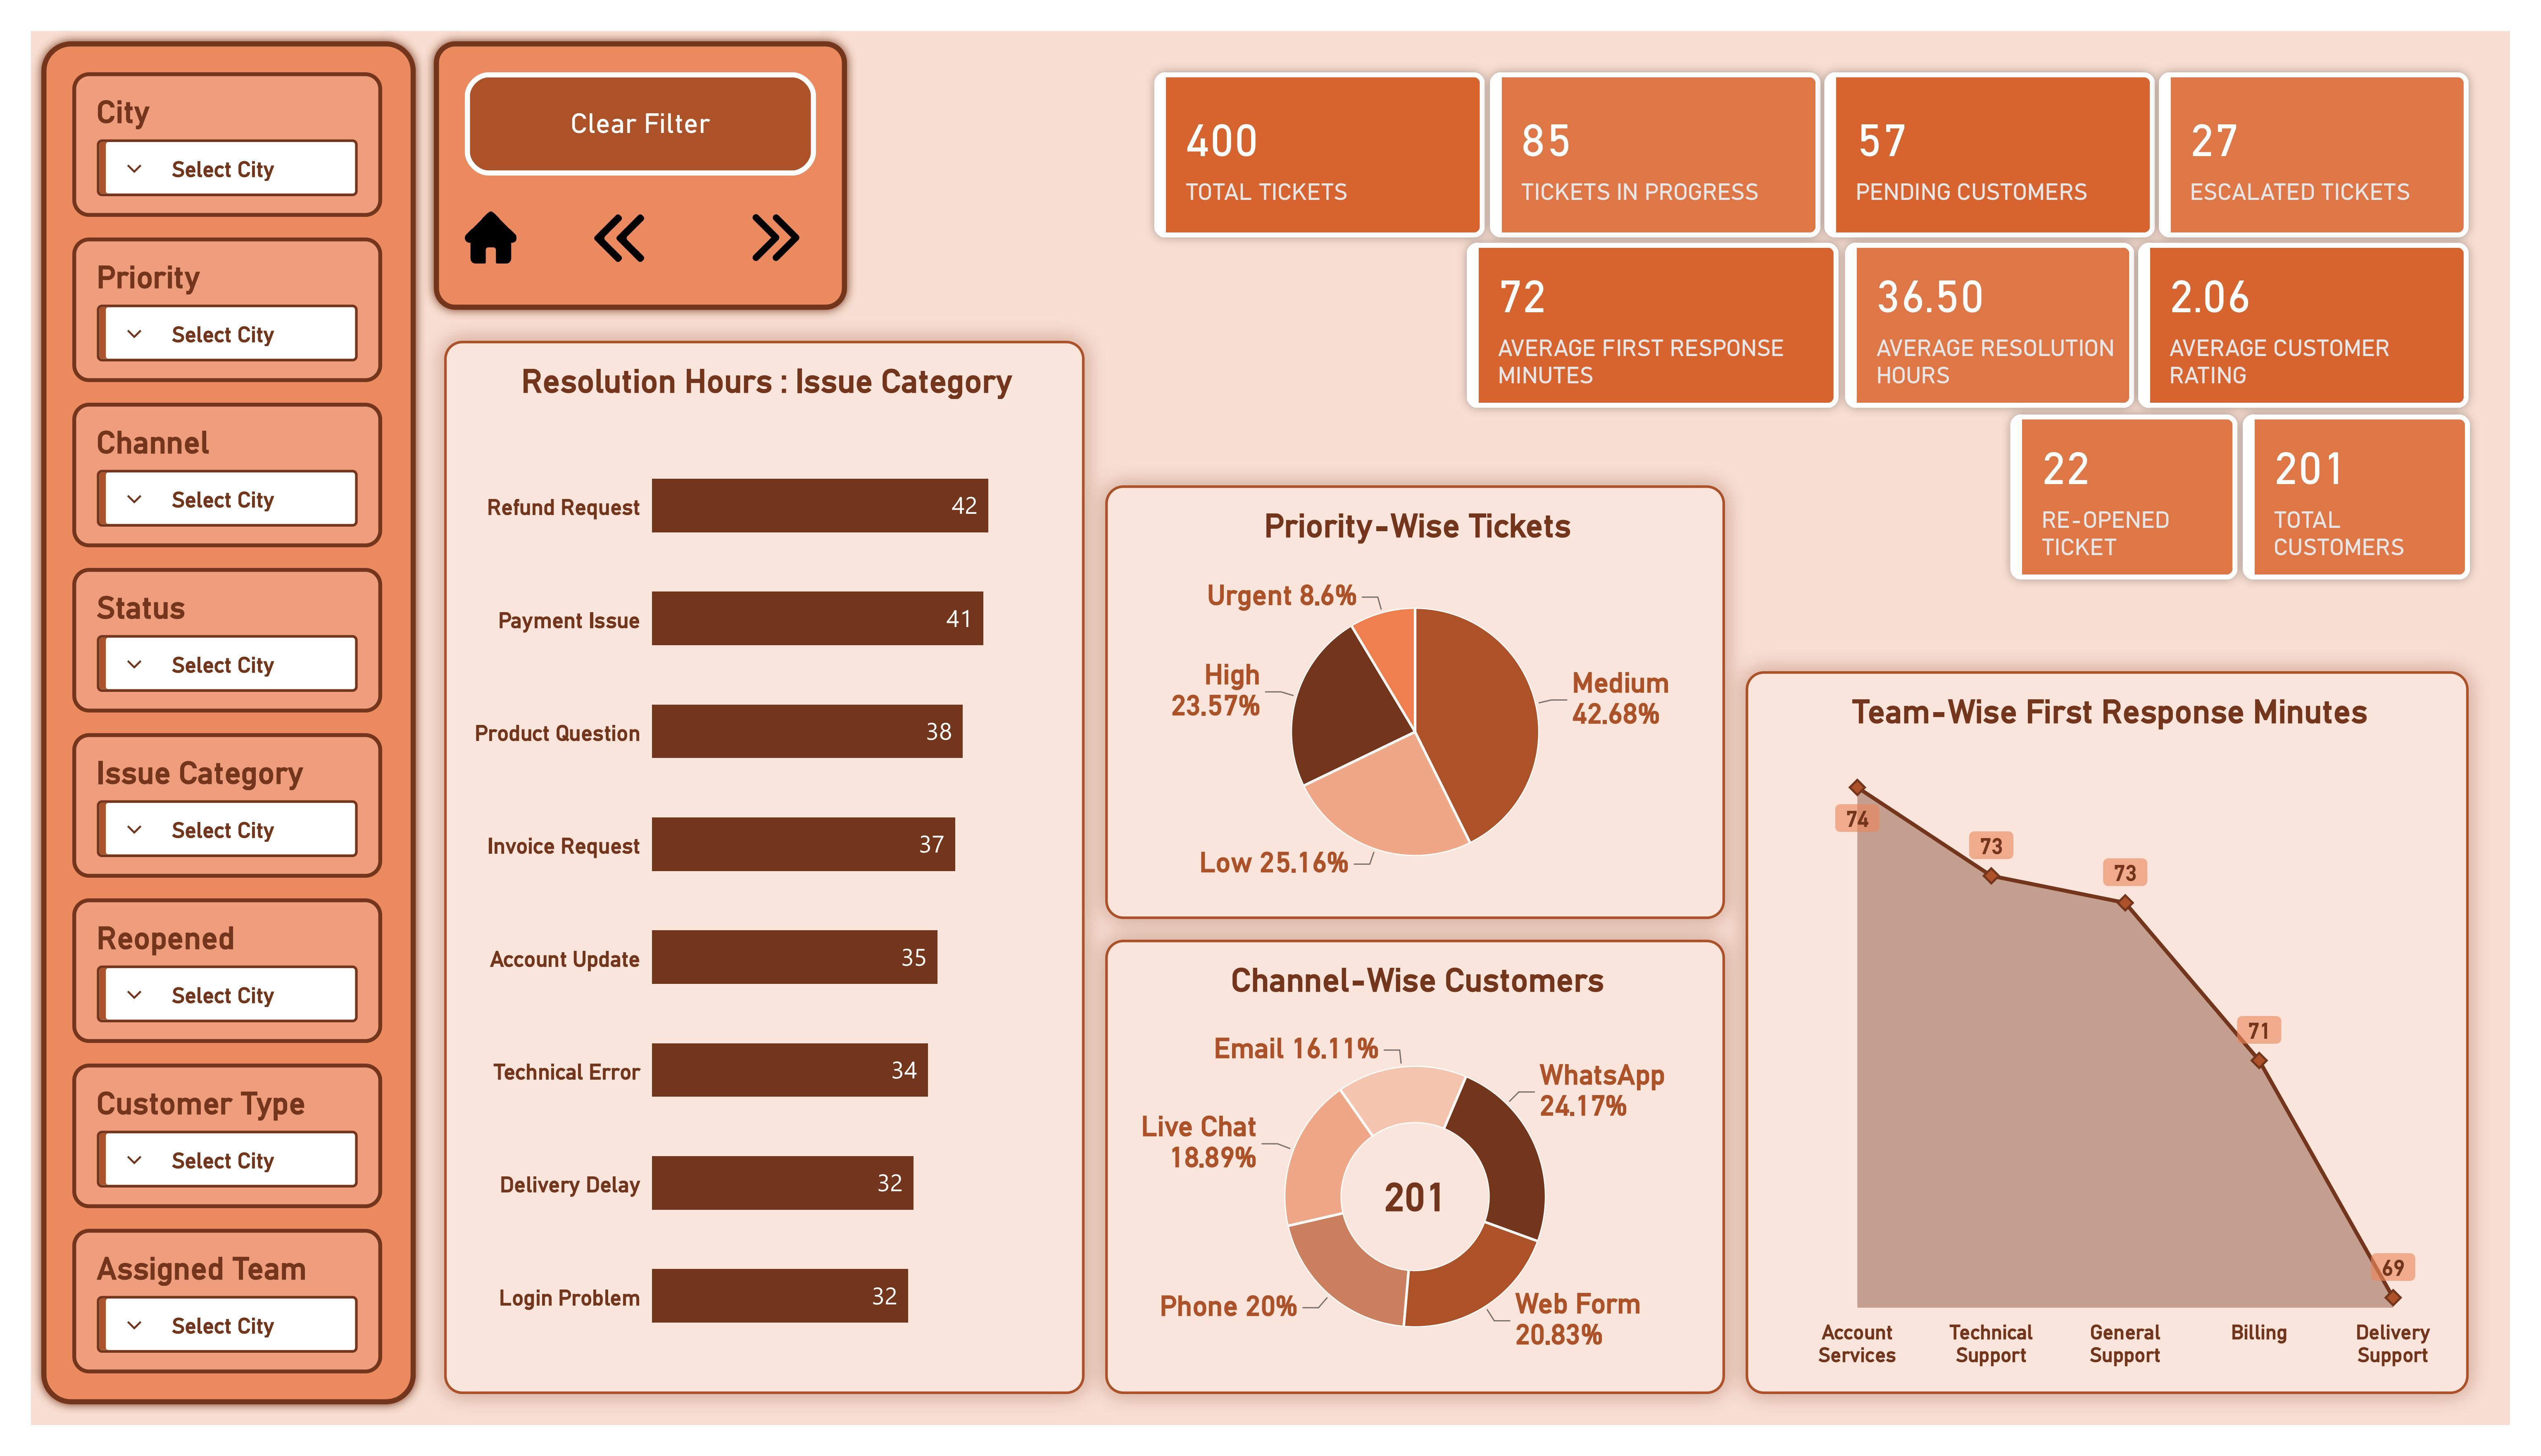

Layout of this report page (visuals, bound fields, positions):
{"tool":"powerbi","page":{"name":"Page 2","canvas":[1920,1080],"ordinal":1},"visuals":[{"type":"shape","box":[304,0,336,224],"z":0,"group":"g1"},{"type":"cardVisual","fields":{"Data":["_measure.TOTAL TICKETS"]},"box":[854,16,288,160],"z":0},{"type":"shape","box":[0,0,306,1072],"z":500,"group":"g1"},{"type":"image","box":[336,128,40,64],"z":1000,"group":"g2"},{"type":"lineChart","title":"Team-Wise First Response Minutes","fields":{"Category":["Customer_Support_Tickets.Assigned_Team"],"Y":["_measure.AVERAGE FIRST RESPONSE MINUTES"]},"box":[1328,496,560,560],"z":1000},{"type":"clusteredBarChart","title":"Resolution Hours : Issue Category","fields":{"Category":["Customer_Support_Tickets.Issue_Category"],"Y":["_measure.AVERAGE RESOLUTION HOURS"]},"box":[320,240,496,816],"z":2000},{"type":"cardVisual","fields":{"Data":["_measure.TICKETS IN PROGRESS"]},"box":[1114,16,288,160],"z":3000},{"type":"actionButton","box":[336,32,272,80],"z":3000,"group":"g1"},{"type":"image","box":[545.9,128,62.1,64],"z":3000,"group":"g3"},{"type":"cardVisual","fields":{"Data":["_measure.PENDING CUSTOMERS"]},"box":[1373,16,288,160],"z":4000},{"type":"image","box":[432,136,46.6,48],"z":4000,"group":"g3"},{"type":"cardVisual","fields":{"Data":["_measure.ESCALATED TICKETS"]},"box":[1632,16,272,160],"z":5000},{"type":"cardVisual","fields":{"Data":["_measure.AVERAGE 1st RESPONSE MINUTES"]},"box":[1096,148,320,160],"z":6000},{"type":"cardVisual","fields":{"Data":["_measure.AVERAGE RESOLUTION HOURS"]},"box":[1389,148,256,160],"z":7000},{"type":"listSlicer","fields":{"Values":["Customer_Support_Tickets.Priority"]},"box":[32,160,240,112],"z":7000,"group":"g1"},{"type":"cardVisual","fields":{"Data":["_measure.AVERAGE CUSTOMER RATING"]},"box":[1616,148,288,160],"z":8000},{"type":"cardVisual","fields":{"Data":["_measure.RE-OPENED TICKET"]},"box":[1517,279,208,160],"z":9000},{"type":"cardVisual","fields":{"Data":["_measure.TOTAL CUSTOMERS"]},"box":[1697,279,208,160],"z":10000},{"type":"group","id":"g1","title":"Group 3","box":[0,0,640,1072],"z":11000},{"type":"pieChart","title":"Priority-Wise Tickets","fields":{"Category":["Customer_Support_Tickets.Priority"],"Y":["_measure.TOTAL CUSTOMERS"]},"box":[832,352,480,336],"z":12000},{"type":"donutChart","title":"Channel-Wise Customers","fields":{"Category":["Customer_Support_Tickets.Channel"],"Y":["_measure.TOTAL CUSTOMERS"]},"box":[832,704,480,352],"z":13000},{"type":"group","id":"g2","title":"Group 2","box":[336,128,272,64],"z":14000,"group":"g1"},{"type":"listSlicer","fields":{"Values":["Customer_Support_Tickets.City"]},"box":[32,32,240,112],"z":22000,"group":"g1"},{"type":"group","id":"g3","title":"Group 1","box":[432,128,176,64],"z":23001,"group":"g2"},{"type":"listSlicer","fields":{"Values":["Customer_Support_Tickets.Issue_Category"]},"box":[32,544,240,112],"z":23500,"group":"g1"},{"type":"listSlicer","fields":{"Values":["Customer_Support_Tickets.Channel"]},"box":[32,288,240,112],"z":24000,"group":"g1"},{"type":"listSlicer","fields":{"Values":["Customer_Support_Tickets.Reopened"]},"box":[32,672,240,112],"z":25000,"group":"g1"},{"type":"listSlicer","fields":{"Values":["Customer_Support_Tickets.Status"]},"box":[32,416,240,112],"z":25500,"group":"g1"},{"type":"listSlicer","fields":{"Values":["Customer_Support_Tickets.Customer_Type"]},"box":[32,800,240,112],"z":28001,"group":"g1"},{"type":"listSlicer","fields":{"Values":["Customer_Support_Tickets.Assigned_Team"]},"box":[32,928,240,112],"z":28501,"group":"g1"}]}

Visuals, with their boxes on the page's 1920x1080 design canvas (x1, y1, x2, y2). These are canvas units, not pixel positions in the 2541x1456 screenshot, which may show the page scaled, cropped or inside an application window:
shape: 304, 0, 640, 224
cardVisual - _measure.TOTAL TICKETS: 854, 16, 1142, 176
shape: 0, 0, 306, 1072
image: 336, 128, 376, 192
"Team-Wise First Response Minutes" lineChart: 1328, 496, 1888, 1056
"Resolution Hours : Issue Category" clusteredBarChart: 320, 240, 816, 1056
cardVisual - _measure.TICKETS IN PROGRESS: 1114, 16, 1402, 176
actionButton: 336, 32, 608, 112
image: 546, 128, 608, 192
cardVisual - _measure.PENDING CUSTOMERS: 1373, 16, 1661, 176
image: 432, 136, 479, 184
cardVisual - _measure.ESCALATED TICKETS: 1632, 16, 1904, 176
cardVisual - _measure.AVERAGE 1st RESPONSE MINUTES: 1096, 148, 1416, 308
cardVisual - _measure.AVERAGE RESOLUTION HOURS: 1389, 148, 1645, 308
listSlicer - Customer_Support_Tickets.Priority: 32, 160, 272, 272
cardVisual - _measure.AVERAGE CUSTOMER RATING: 1616, 148, 1904, 308
cardVisual - _measure.RE-OPENED TICKET: 1517, 279, 1725, 439
cardVisual - _measure.TOTAL CUSTOMERS: 1697, 279, 1905, 439
"Group 3" group: 0, 0, 640, 1072
"Priority-Wise Tickets" pieChart: 832, 352, 1312, 688
"Channel-Wise Customers" donutChart: 832, 704, 1312, 1056
"Group 2" group: 336, 128, 608, 192
listSlicer - Customer_Support_Tickets.City: 32, 32, 272, 144
"Group 1" group: 432, 128, 608, 192
listSlicer - Customer_Support_Tickets.Issue_Category: 32, 544, 272, 656
listSlicer - Customer_Support_Tickets.Channel: 32, 288, 272, 400
listSlicer - Customer_Support_Tickets.Reopened: 32, 672, 272, 784
listSlicer - Customer_Support_Tickets.Status: 32, 416, 272, 528
listSlicer - Customer_Support_Tickets.Customer_Type: 32, 800, 272, 912
listSlicer - Customer_Support_Tickets.Assigned_Team: 32, 928, 272, 1040
